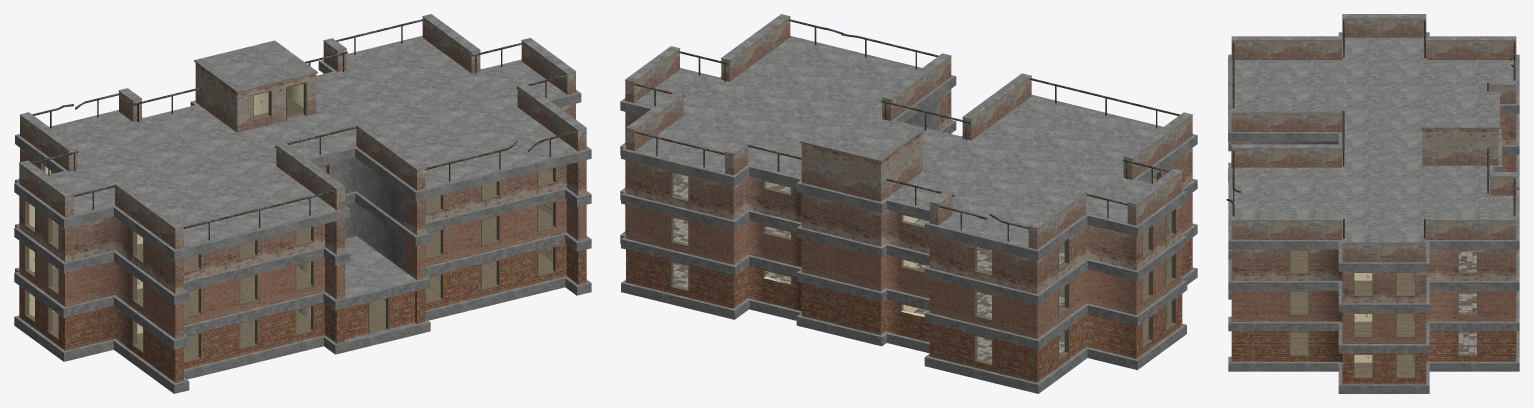
Rendered from pubg.glb.
3 renders of one model, left to right at view 1: azimuth 30°, elevation 25°; view 2: azimuth 150°, elevation 25°; view 3: azimuth 270°, elevation 25°, orthographic. The views are drawn at different scales.
Visible parts, largest first — view 1: roof_Ceramic_0, concrete border_Ceramic_0, base floor structure_wall_01_0, Object037_wall_03_0, Object059_Solid Glass_0, second floor structure_wall_03_0, Object037_Ceramic_0, roof halway_wall_03_0, halway roof_Ceramic_0, roof grill_Metal_0, pillar_Solid Glass_0, pillar_wall_03_0 (+11 smaller); view 2: roof_Ceramic_0, concrete border_Ceramic_0, second floor structure_wall_03_0, Object059_Solid Glass_0, base floor structure_wall_01_0, Object037_wall_03_0, roof halway_wall_03_0, Object037_Ceramic_0, halway roof_Ceramic_0, roof grill_Metal_0, second floor win/door/stairs_windows and stairs_0, first floor win/door/stairs_windows and stairs_0 (+6 smaller); view 3: roof_Ceramic_0, concrete border_Ceramic_0, Object037_wall_03_0, second floor structure_wall_03_0, Object059_Solid Glass_0, base floor structure_wall_01_0, Object037_Ceramic_0, halway roof_Ceramic_0, roof halway_wall_03_0, roof grill_Metal_0, base floor_floor_0, first floor_floor_0 (+12 smaller).
Boxes of the visible parts, x1,y1,x2,y2 form: roof_Ceramic_0: (50, 37, 577, 247); concrete border_Ceramic_0: (14, 35, 591, 393); base floor structure_wall_01_0: (19, 203, 566, 374); Object037_wall_03_0: (19, 17, 586, 249); Object059_Solid Glass_0: (19, 198, 566, 330); second floor structure_wall_03_0: (19, 103, 575, 285); Object037_Ceramic_0: (19, 14, 586, 228); roof halway_wall_03_0: (195, 63, 316, 132); halway roof_Ceramic_0: (194, 40, 317, 92); roof grill_Metal_0: (31, 19, 577, 240); pillar_Solid Glass_0: (164, 200, 586, 338); pillar_wall_03_0: (164, 160, 586, 294); roof_Ceramic_0: (634, 37, 1161, 247); concrete border_Ceramic_0: (620, 36, 1197, 393); second floor structure_wall_03_0: (625, 112, 1182, 294); Object059_Solid Glass_0: (625, 160, 1182, 338); base floor structure_wall_01_0: (625, 204, 1182, 382); Object037_wall_03_0: (625, 17, 1192, 249); roof halway_wall_03_0: (801, 132, 922, 201); Object037_Ceramic_0: (625, 14, 1192, 228); halway roof_Ceramic_0: (800, 109, 924, 162); roof grill_Metal_0: (634, 19, 1180, 241); second floor win/door/stairs_windows and stairs_0: (670, 171, 1176, 276); first floor win/door/stairs_windows and stairs_0: (670, 216, 1176, 321); roof_Ceramic_0: (1231, 37, 1516, 262); concrete border_Ceramic_0: (1228, 32, 1519, 393); Object037_wall_03_0: (1231, 18, 1516, 261); second floor structure_wall_03_0: (1252, 113, 1516, 302); Object059_Solid Glass_0: (1252, 154, 1516, 343); base floor structure_wall_01_0: (1252, 331, 1516, 384); Object037_Ceramic_0: (1231, 14, 1516, 243); halway roof_Ceramic_0: (1421, 91, 1499, 128); roof halway_wall_03_0: (1422, 129, 1498, 165); roof grill_Metal_0: (1226, 20, 1515, 238); base floor_floor_0: (1290, 332, 1414, 375); first floor_floor_0: (1290, 291, 1414, 334).
Size of the model in its own units: 151791 by 51597 by 81382.
Materials: 10 (10 with a texture image).
